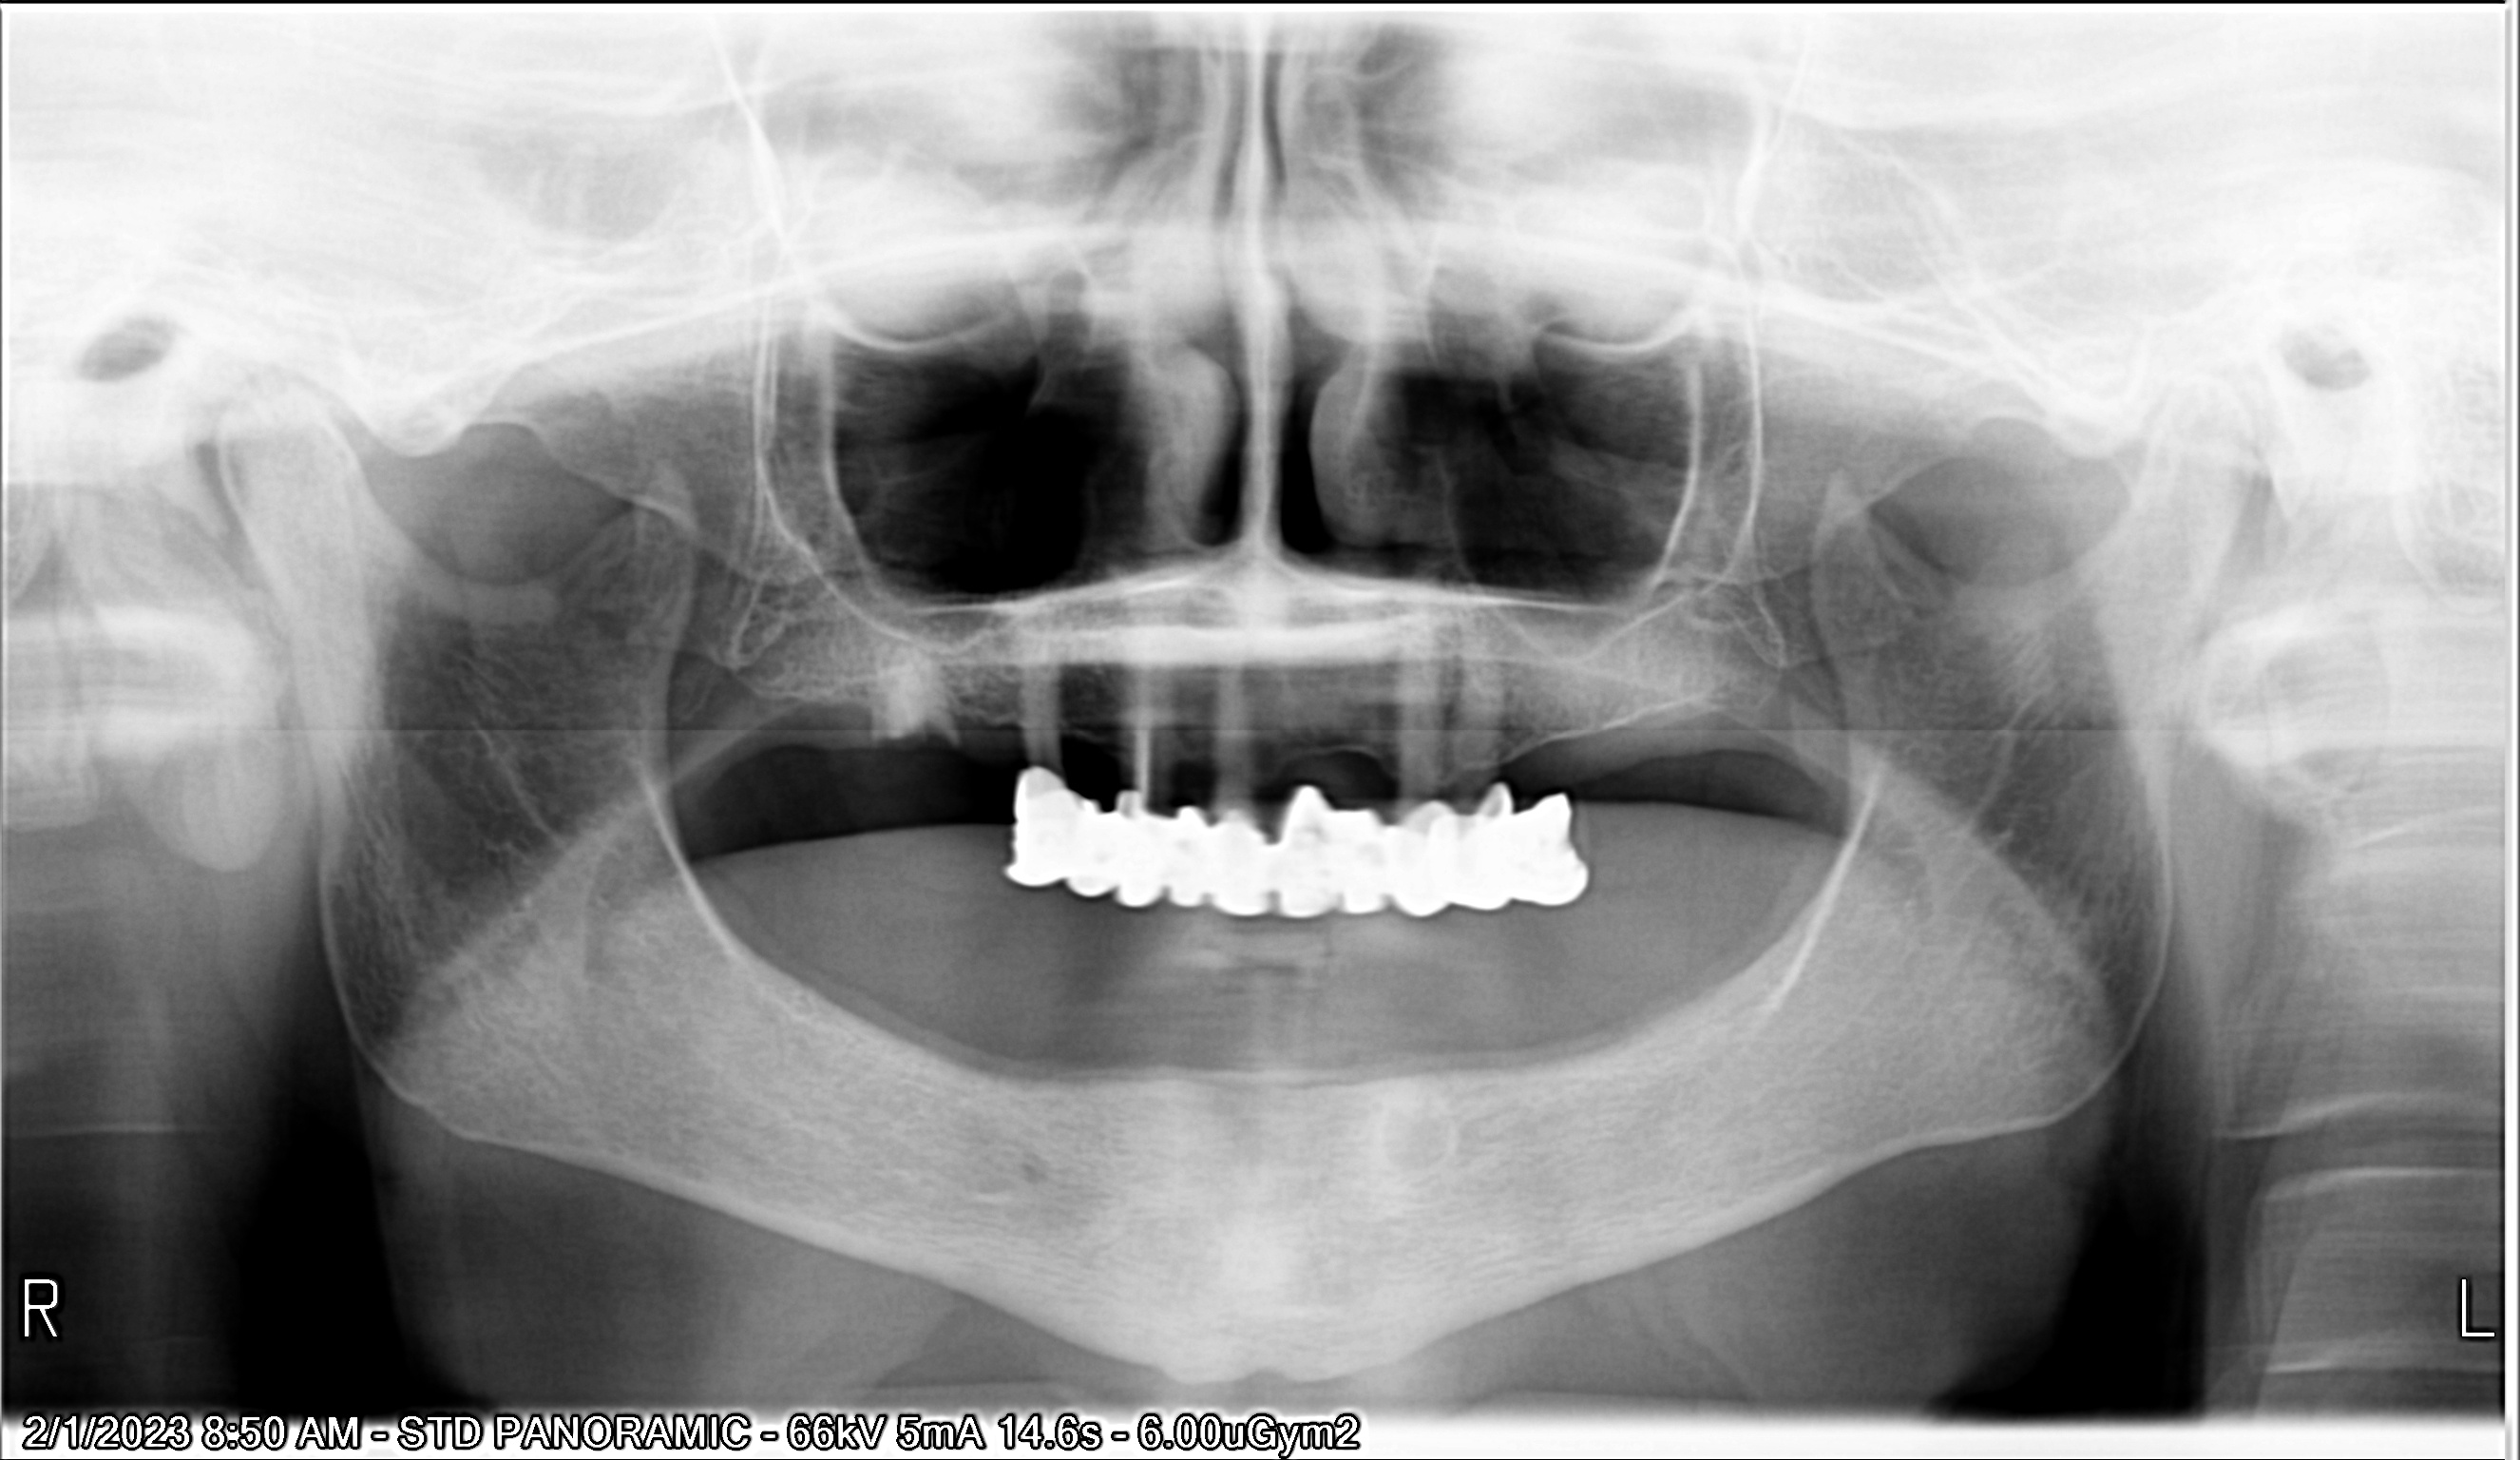BON: (714, 313, 2261, 1112), (653, 309, 2063, 1119), (589, 295, 1884, 1133), (559, 302, 1782, 1118), (488, 290, 1605, 1095)
END: (530, 233, 1697, 1041)
PRR: (191, 287, 1789, 1227)
ROT: (358, 259, 1330, 1015)
